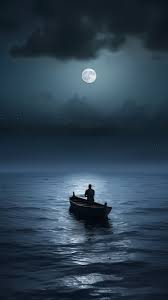boat: (68, 190, 111, 220)
